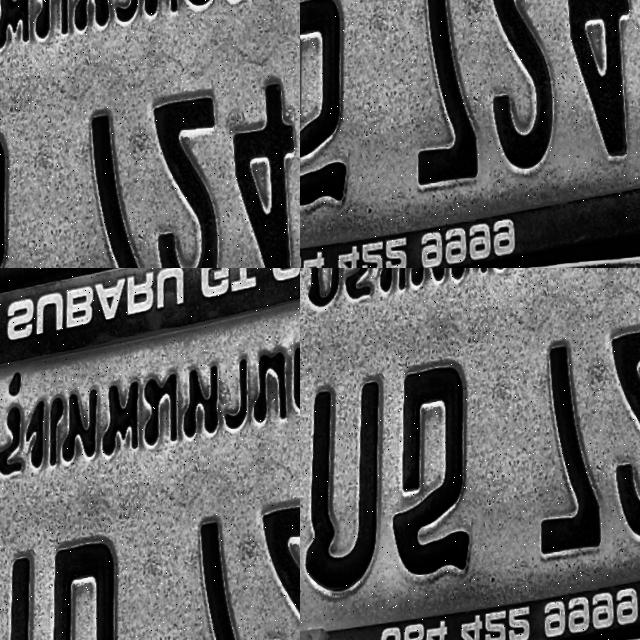license-plate: (300, 268, 640, 640)
